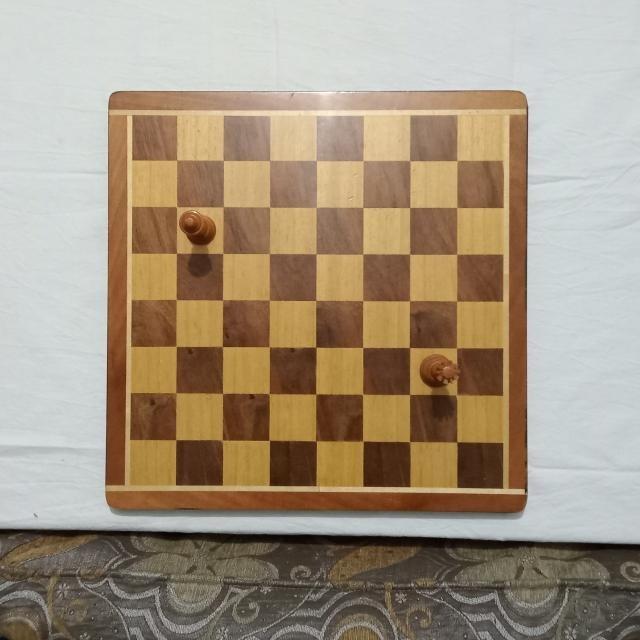white-king: (178, 211, 217, 247)
white-queen: (418, 352, 462, 392)
